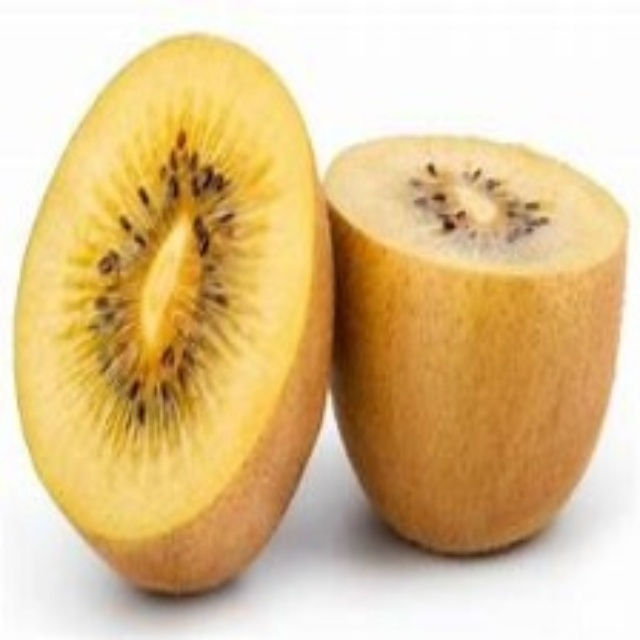kiwi: (16, 33, 328, 601), (310, 141, 639, 554)
